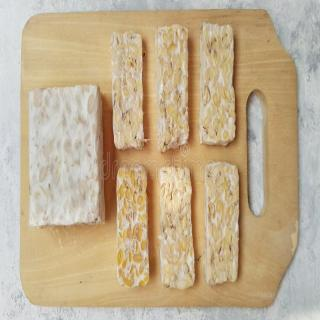Tempe: (21, 9, 300, 307), (29, 84, 106, 228), (199, 22, 237, 147), (160, 166, 197, 291), (156, 24, 191, 154), (205, 161, 241, 286), (111, 31, 148, 151), (117, 164, 151, 289), (246, 89, 270, 217)
